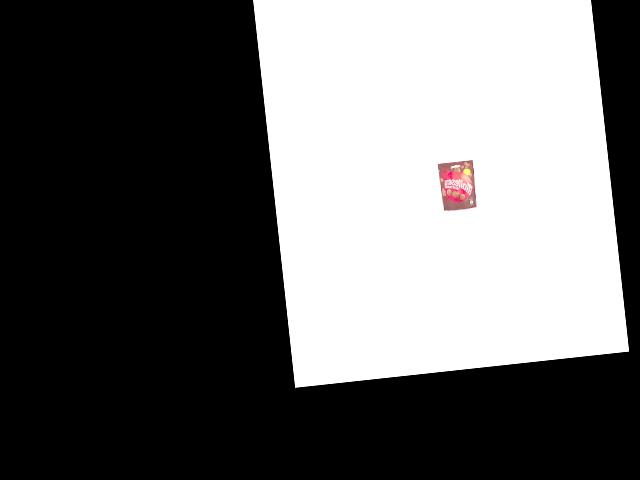chocolate: (436, 159, 478, 212)
